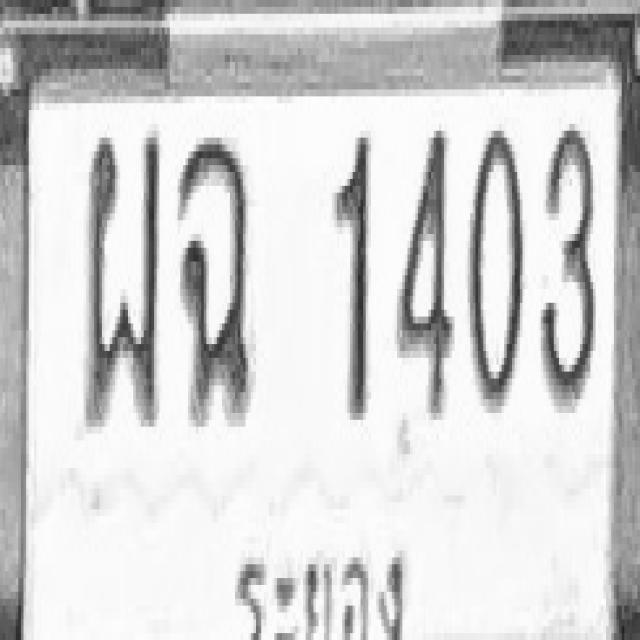0: (468, 124, 522, 413)
1: (333, 131, 370, 420)
18ChorChing: (176, 134, 252, 423)
3: (540, 124, 594, 406)
37PhorPhueng: (84, 130, 160, 427)
4: (394, 120, 452, 417)
Rayong: (225, 523, 410, 640)
